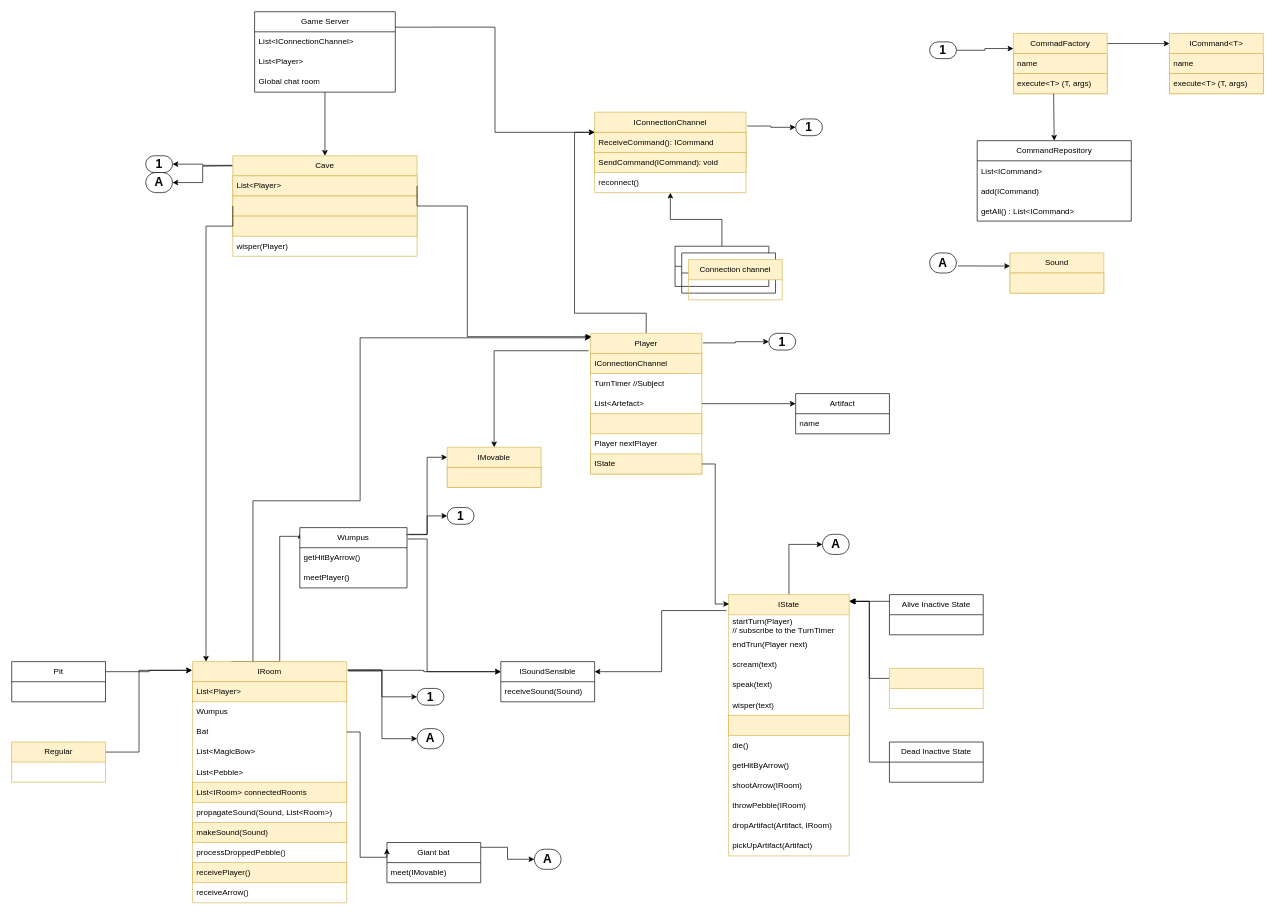
The diagram is 1275 pixels wide and 915 high, and some of its shapes have lost their labels. The centre of each missing label's shape, as x and y in pixels:
Alive Active State: [936,688]
IRoom currentRoom: [646,423]
List<IRoom>: [324,205]
moveTo(Room): [494,477]
PropagationDistance: [1056,282]
startTheHunt(): [324,225]
walkTo(IRoom): [788,725]
